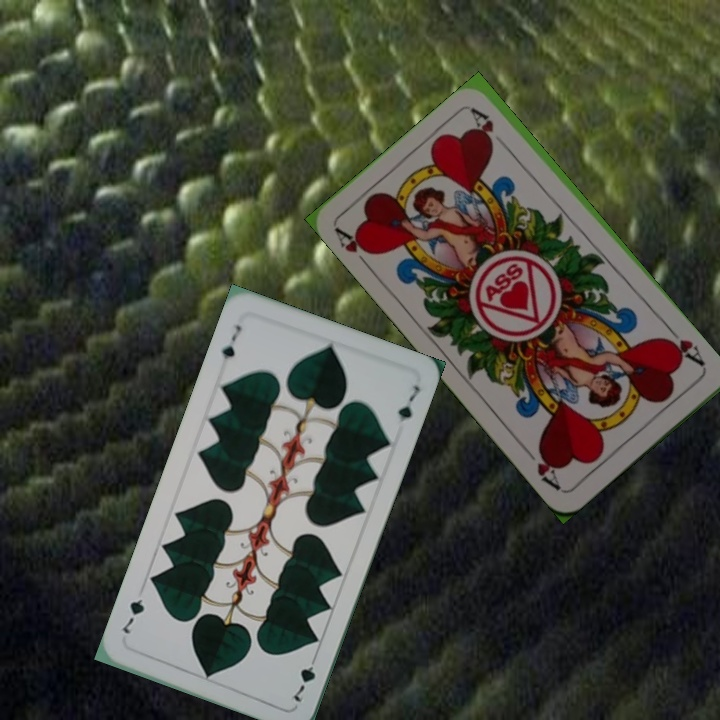G7: (289, 649, 320, 705), (217, 321, 245, 362)
HA: (659, 323, 708, 370), (331, 224, 378, 273)
